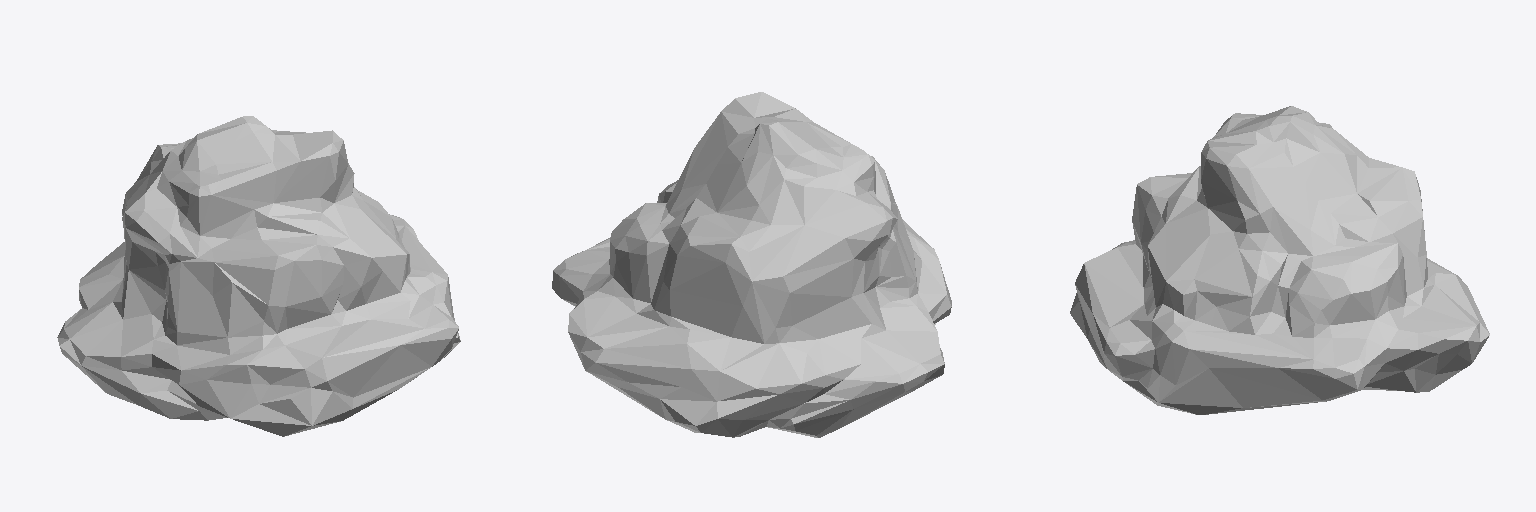
Rendered from rock01.obj.
3 views of the same model, side by side, from view 1: azimuth 30°, elevation 25°; view 2: azimuth 150°, elevation 25°; view 3: azimuth 270°, elevation 25° (orthographic).
Visible parts, largest first — view 1: Rock_6; view 2: Rock_6; view 3: Rock_6.
Boxes of the visible parts, x1,y1,x2,y2 form: Rock_6: [57, 116, 460, 436]; Rock_6: [552, 92, 951, 437]; Rock_6: [1070, 106, 1489, 414].
Bounding box in the file's own units: 2.6 × 1.9 × 2.65.